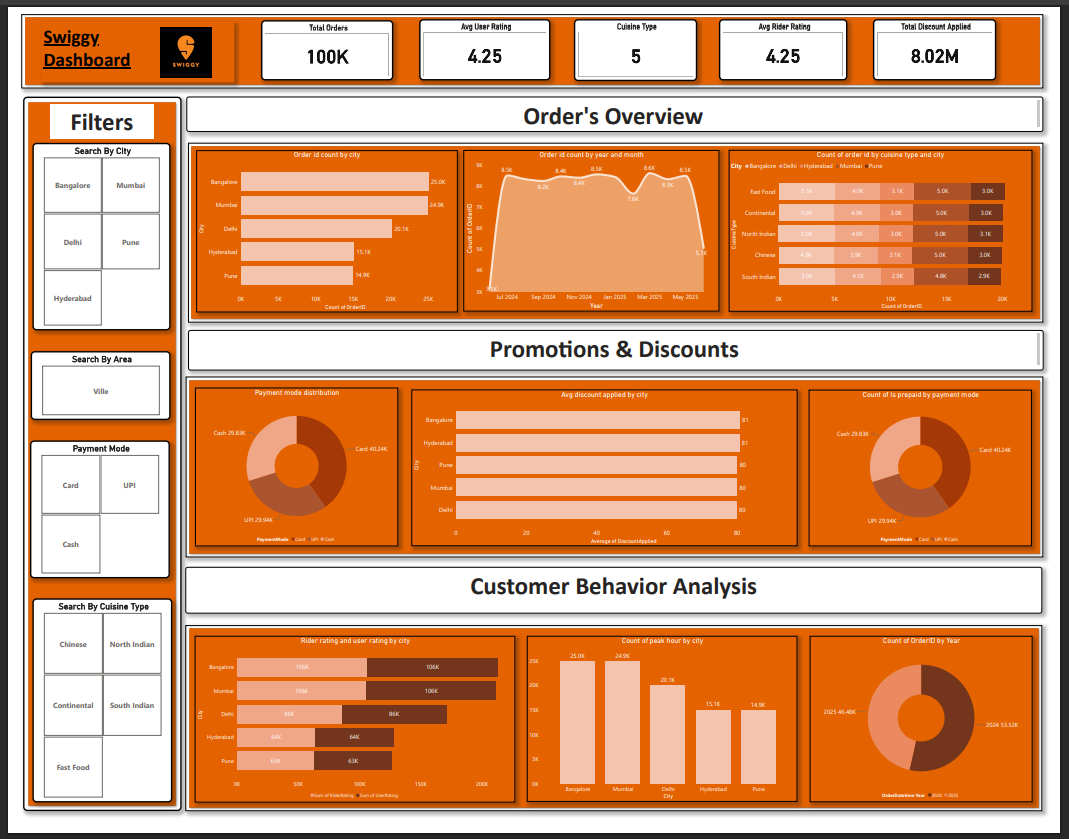

Layout of this report page (visuals, bound fields, positions):
{"tool":"tableau","page":{"name":"Dashboard 1","canvas":[1720,1160],"ordinal":0},"visuals":[{"type":"text","box":[5,4,1715,126]},{"type":"worksheet","title":"Sheet 2","mark":"Automatic","rows":["OrderID"],"cols":["OrderDatetime"],"box":[554,133,561,330]},{"type":"worksheet","title":"Sheet 3","mark":"Automatic","rows":["DeliveryFee"],"cols":["City"],"box":[1121,134,596,327]},{"type":"worksheet","title":"Sheet 1","mark":"Automatic","rows":["City"],"cols":["OrderValue"],"box":[7,135,542,324]},{"type":"worksheet","title":"Sheet 10","mark":"Circle","box":[4,461,510,350]},{"type":"worksheet","title":"Sheet 6","mark":"Automatic","rows":["UserID"],"cols":["TotalAmount"],"box":[516,464,593,344]},{"type":"worksheet","title":"Sheet 5","mark":"Automatic","box":[1112,464,607,347]},{"type":"legend","title":"Sheet 5","param":"[federated.0jja2vn1pwjt8g0zpawjo116l75y].[sum:TotalAmount:qk]","box":[1546,472,166,43]},{"type":"worksheet","title":"Sheet 9","mark":"Automatic","rows":["RestaurantID"],"cols":["OrderValue"],"box":[501,815,552,338]},{"type":"worksheet","title":"Sheet 7","mark":"Pie","box":[1057,815,334,337]},{"type":"worksheet","title":"Sheet 4","mark":"Circle","box":[1396,815,323,337]},{"type":"worksheet","title":"Sheet 8","mark":"Pie","box":[4,816,490,335]},{"type":"legend","title":"Sheet 7","param":"[federated.0jja2vn1pwjt8g0zpawjo116l75y].[cnt:OrderValue:qk]","box":[1079,1099,230,44]}]}

Visuals, with their boxes on the page's 1720x1160 design canvas (x1, y1, x2, y2). These are canvas units, not pixel positions in the 1069x839 screenshot, which may show the page scaled, cropped or inside an application window:
text: BBox(5, 4, 1720, 130)
"Sheet 2" worksheet: BBox(554, 133, 1115, 463)
"Sheet 3" worksheet: BBox(1121, 134, 1717, 461)
"Sheet 1" worksheet: BBox(7, 135, 549, 459)
"Sheet 10" worksheet (Circle marks): BBox(4, 461, 514, 811)
"Sheet 6" worksheet: BBox(516, 464, 1109, 808)
"Sheet 5" worksheet: BBox(1112, 464, 1719, 811)
"Sheet 5" legend: BBox(1546, 472, 1712, 515)
"Sheet 9" worksheet: BBox(501, 815, 1053, 1153)
"Sheet 7" worksheet (Pie marks): BBox(1057, 815, 1391, 1152)
"Sheet 4" worksheet (Circle marks): BBox(1396, 815, 1719, 1152)
"Sheet 8" worksheet (Pie marks): BBox(4, 816, 494, 1151)
"Sheet 7" legend: BBox(1079, 1099, 1309, 1143)
